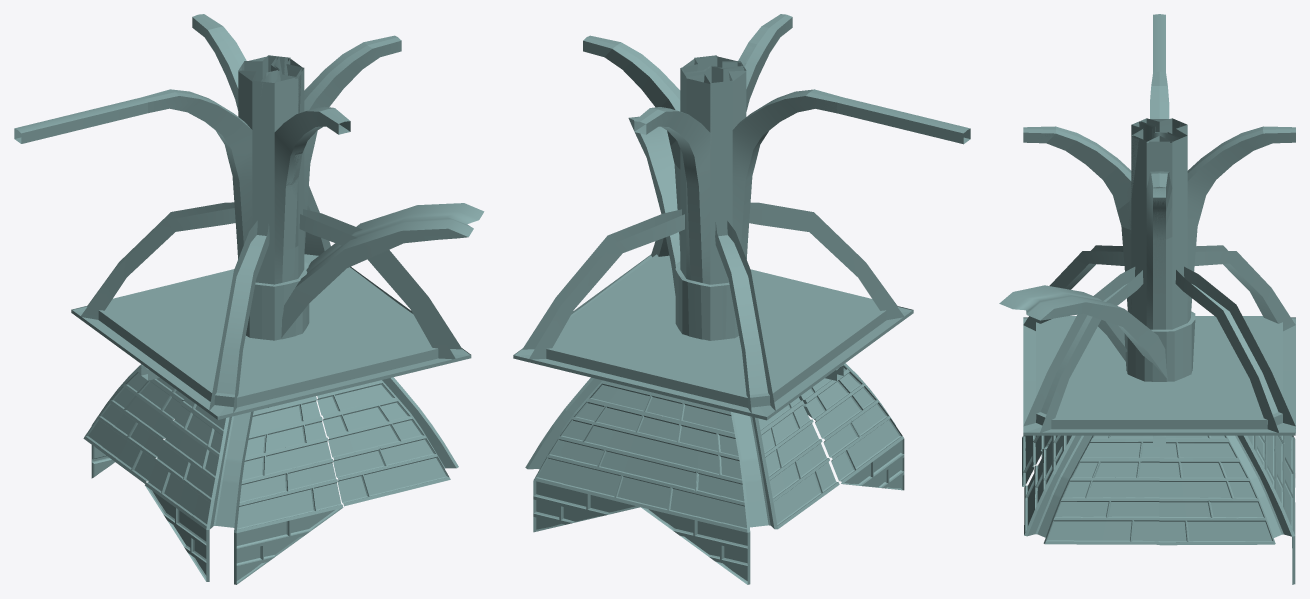
The model's file is WitchGame_CeilingTiles_5_16_20_003.fbx.
3 renders of one model, left to right at view 1: azimuth 30°, elevation 25°; view 2: azimuth 150°, elevation 25°; view 3: azimuth 270°, elevation 25°, orthographic. The views are drawn at different scales.
Visible parts, largest first — view 1: HintTop_4Sided, polySurface29, polySurface30, Arch_Tri_AgainstWall, Arch_Quad, Arch_OutsideCorner_Top, polySurface31, OpenTop_3Sided, OpenTop_4Sided, Arch_Tri_NoWall, OpenTop_Across, Arch_FlatTop (+4 smaller); view 2: HintTop_4Sided, polySurface31, polySurface32, Arch_Tri_AgainstWall, polySurface29, Arch_Quad, Arch_Tri_NoWall, OpenTop_3Sided, OpenTop_4Sided, OpenTop_Across, Arch_Across, Arch_OutsideCorner (+6 smaller); view 3: HintTop_4Sided, polySurface32, polySurface30, Arch_Quad, Arch_OutsideCorner, OpenTop_4Sided, Arch_Tri_NoWall, Arch_OutsideCorner_Top, OpenTop_Diagonal, OpenTop_Corner, Arch_FlatTop, Arch_Post (+6 smaller).
Boxes of the visible parts, x1,y1,x2,y2 form: HintTop_4Sided: (82, 254, 451, 412); polySurface29: (145, 396, 343, 584); polySurface30: (317, 377, 458, 506); Arch_Tri_AgainstWall: (143, 70, 343, 340); Arch_Quad: (149, 14, 401, 339); Arch_OutsideCorner_Top: (281, 203, 484, 337); polySurface31: (83, 364, 185, 483); OpenTop_3Sided: (80, 202, 435, 347); OpenTop_4Sided: (72, 186, 469, 416); Arch_Tri_NoWall: (141, 14, 350, 287); OpenTop_Across: (299, 205, 462, 359); Arch_FlatTop: (14, 62, 273, 285); HintTop_4Sided: (532, 254, 902, 412); polySurface31: (640, 396, 839, 584); polySurface32: (525, 377, 667, 532); Arch_Tri_AgainstWall: (696, 14, 841, 340); polySurface29: (799, 363, 904, 490); Arch_Quad: (587, 35, 834, 340); Arch_Tri_NoWall: (634, 15, 843, 337); OpenTop_3Sided: (516, 209, 767, 416); OpenTop_4Sided: (514, 202, 912, 416); OpenTop_Across: (516, 213, 684, 359); Arch_Across: (602, 42, 839, 284); Arch_OutsideCorner: (583, 14, 785, 328); HintTop_4Sided: (1023, 316, 1295, 432); polySurface32: (1159, 435, 1295, 584); polySurface30: (1024, 435, 1159, 544); Arch_Quad: (1024, 79, 1295, 381); Arch_OutsideCorner: (1023, 121, 1183, 381); OpenTop_4Sided: (1023, 245, 1295, 432); Arch_Tri_NoWall: (1023, 72, 1295, 377); Arch_OutsideCorner_Top: (999, 285, 1167, 380); OpenTop_Diagonal: (1023, 251, 1295, 432); OpenTop_Corner: (1194, 245, 1295, 331); Arch_FlatTop: (1147, 14, 1185, 133); Arch_Post: (1131, 119, 1180, 197).
Size of the model in its own units: 635 by 660 by 435.
